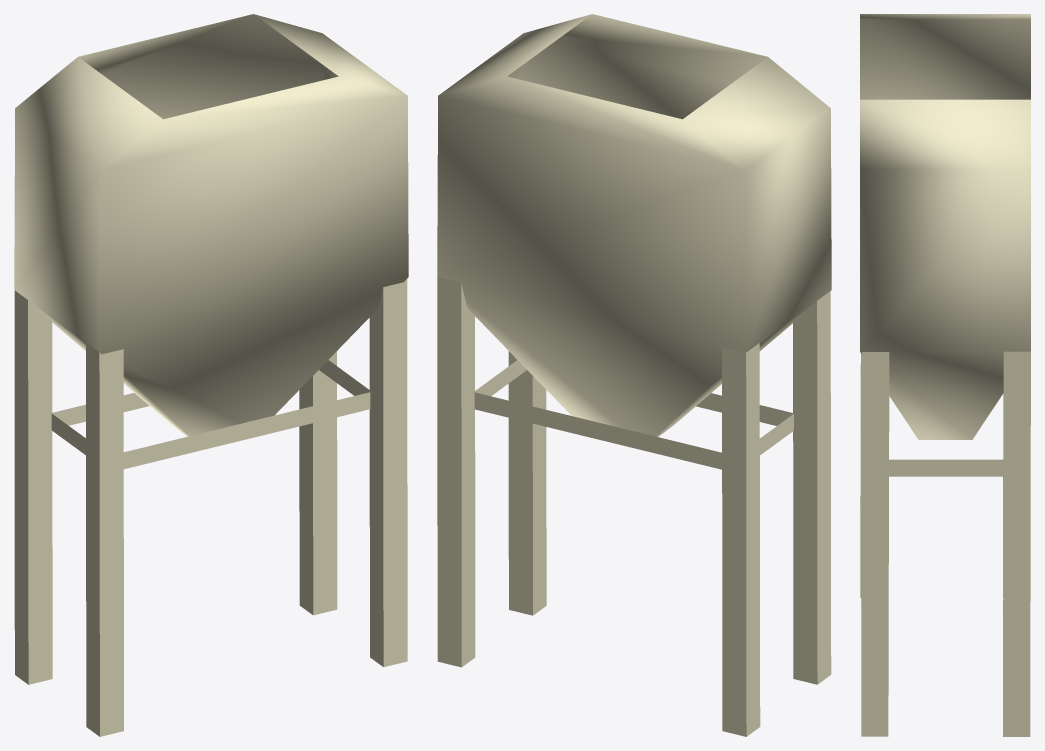
File: boxbeton1.fbx
3 renders of one model, left to right at view 1: azimuth 30°, elevation 25°; view 2: azimuth 150°, elevation 25°; view 3: azimuth 270°, elevation 25°, orthographic.
Parts seen in each view (by area): view 1: betonbox; view 2: betonbox; view 3: betonbox.
Part boxes in pixels (x1,y1,x2,y2): betonbox: [14, 14, 408, 736]; betonbox: [437, 14, 831, 736]; betonbox: [860, 14, 1030, 736].
Size of the model in its own units: 128 by 238 by 61.03.
